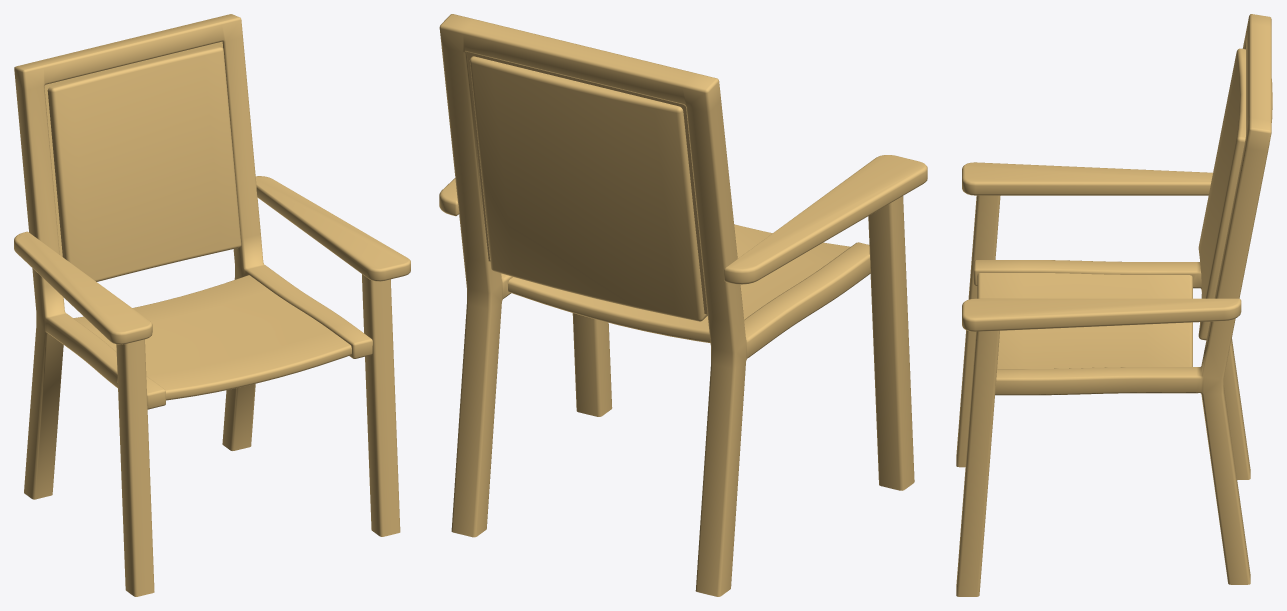
The model's file is Chair.fbx.
3 renders of one model, left to right at view 1: azimuth 30°, elevation 25°; view 2: azimuth 150°, elevation 25°; view 3: azimuth 270°, elevation 25°, orthographic. The views are drawn at different scales.
Parts seen in each view (by area): view 1: Chair; view 2: Chair; view 3: Chair.
Part boxes in pixels (box(x1,y1,x2,y2)): Chair: box(14, 14, 410, 596); Chair: box(439, 14, 927, 596); Chair: box(956, 14, 1272, 596).
Size of the model in its own units: 67.11 by 90.41 by 56.84.
